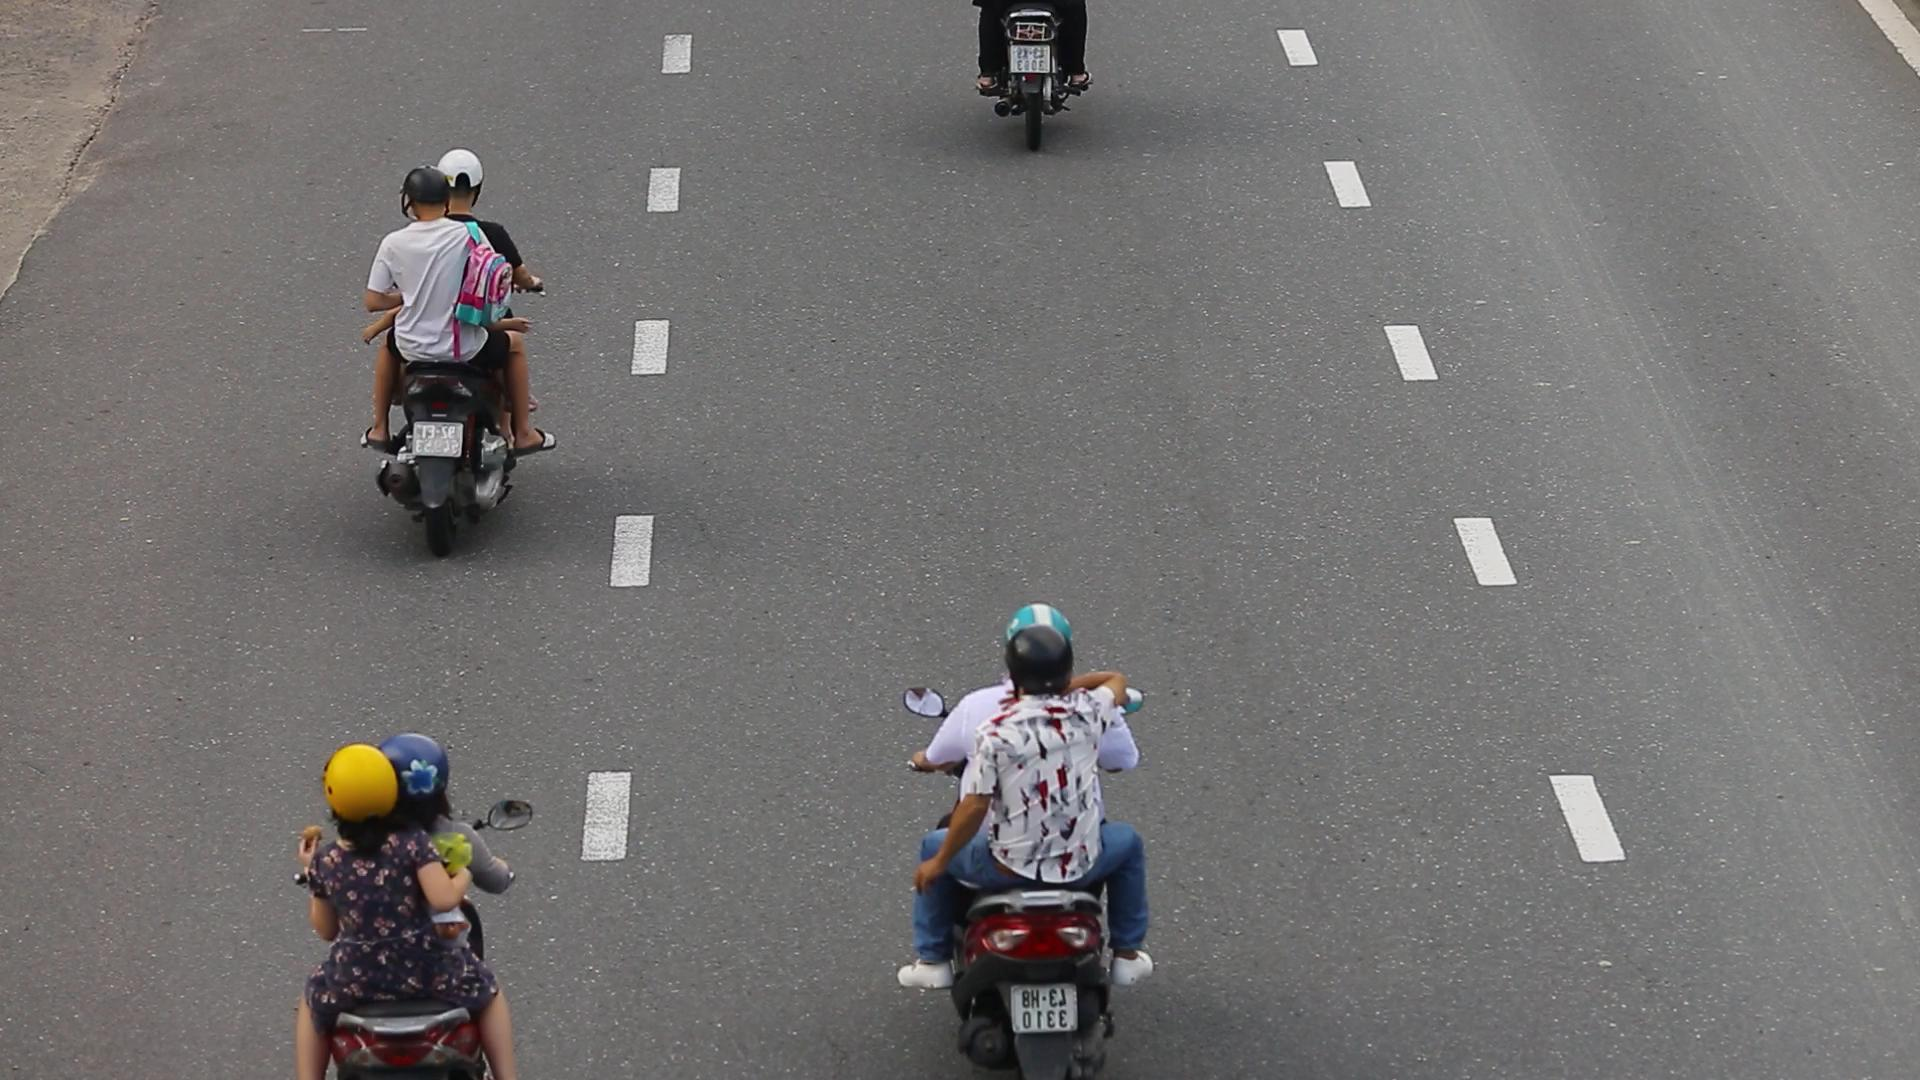motobike: (885, 591, 1167, 1080), (351, 140, 553, 568)
